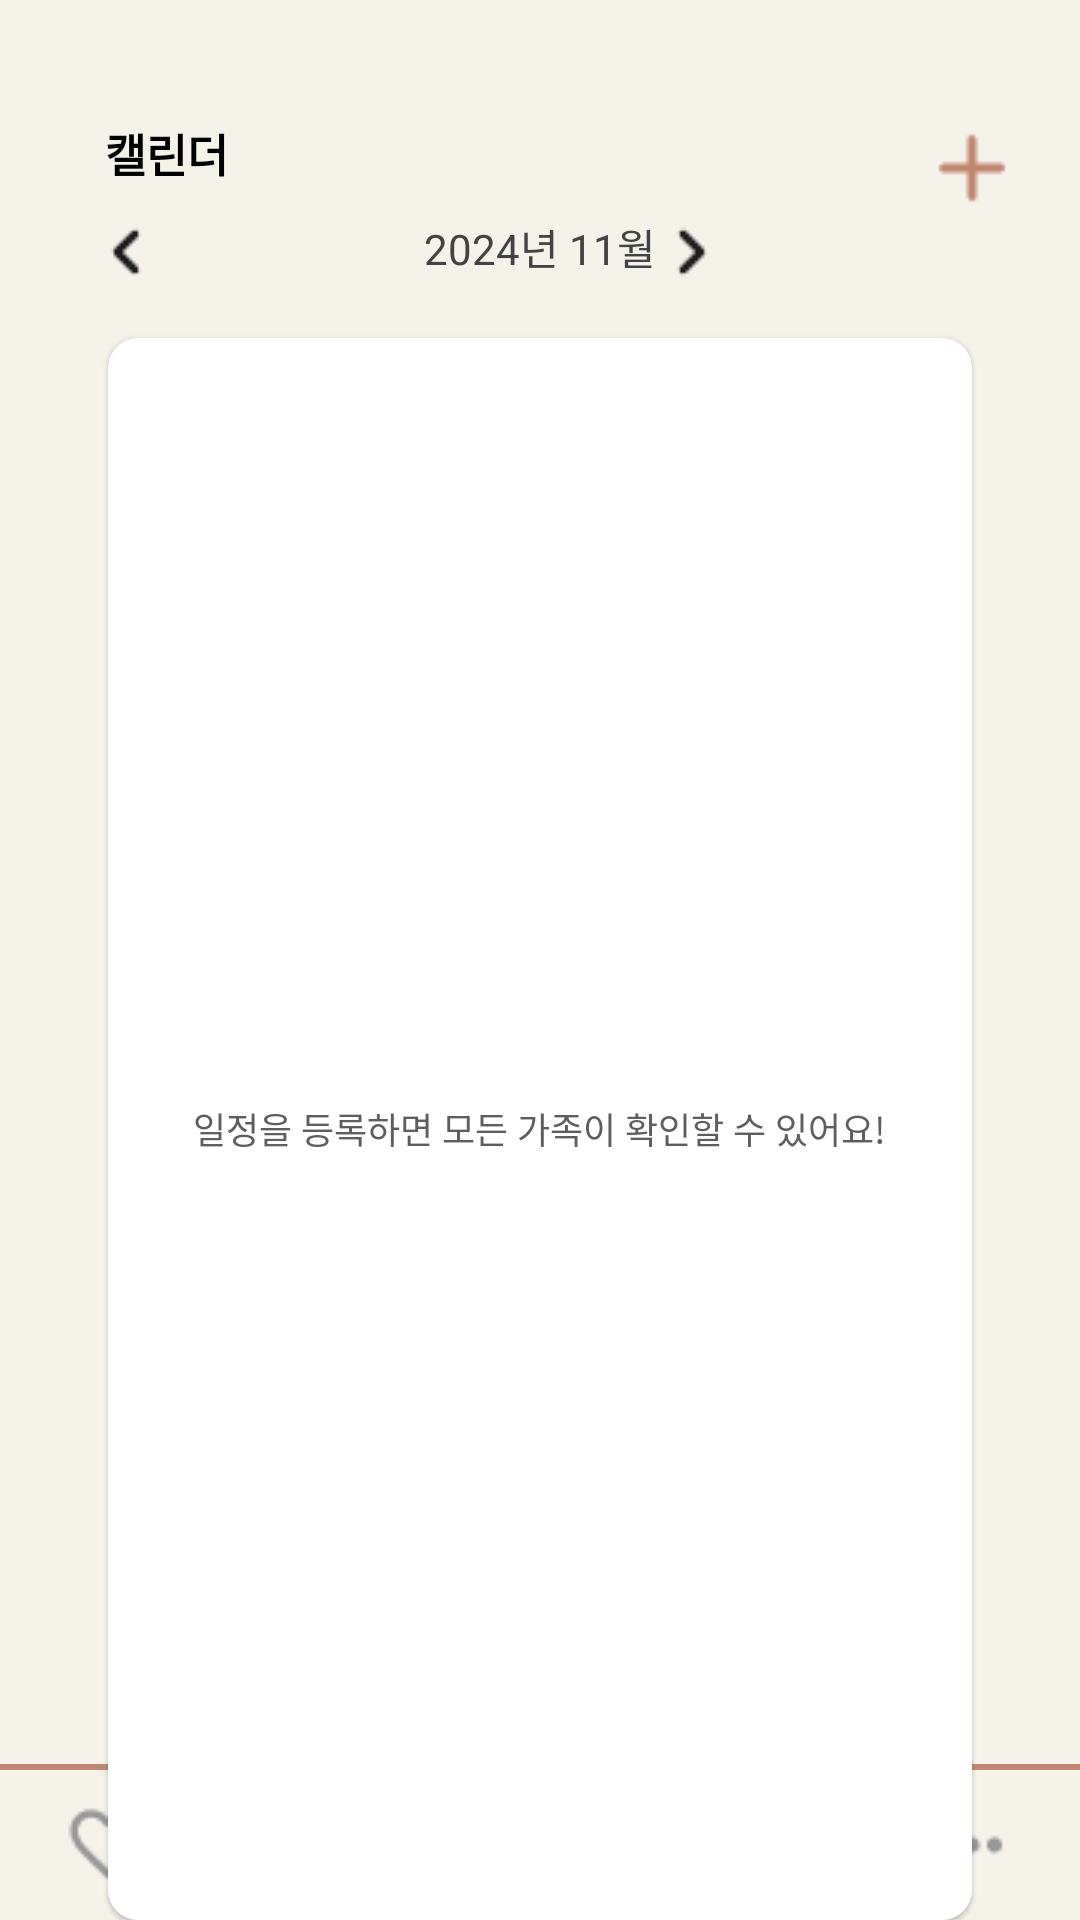

Icon bounding boxes for this 1080px×1920px phone screenshot, format (x1, y1, x2, y2):
다음 달로 이동: (678, 229, 706, 275)
이전 달로 이동: (112, 229, 140, 275)
일정 추가: (938, 134, 1006, 202)
